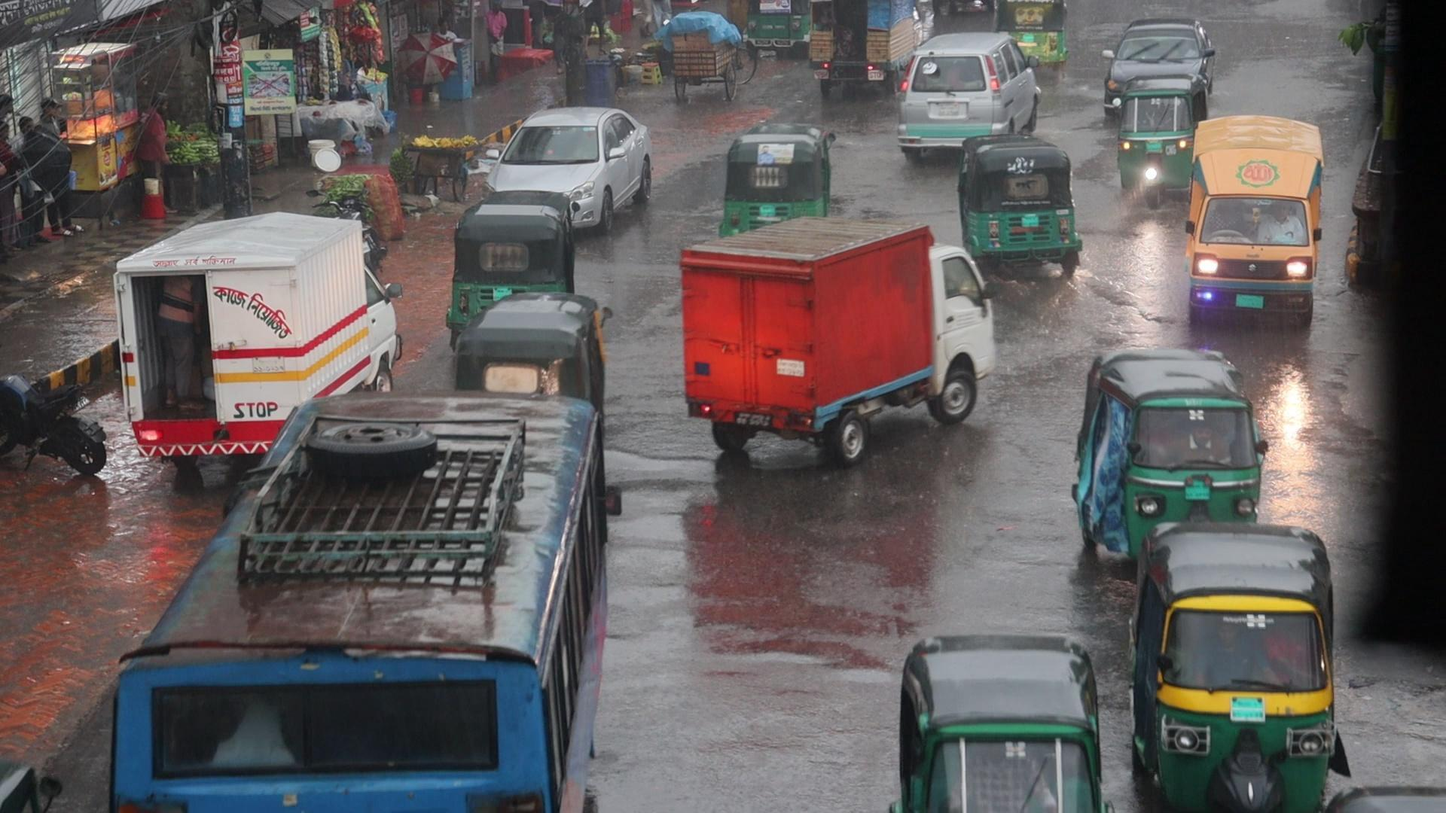Bus: (103, 387, 625, 813)
Car: (895, 32, 1039, 133), (1101, 18, 1214, 81)
Truck: (678, 210, 995, 466), (1184, 116, 1319, 338)
